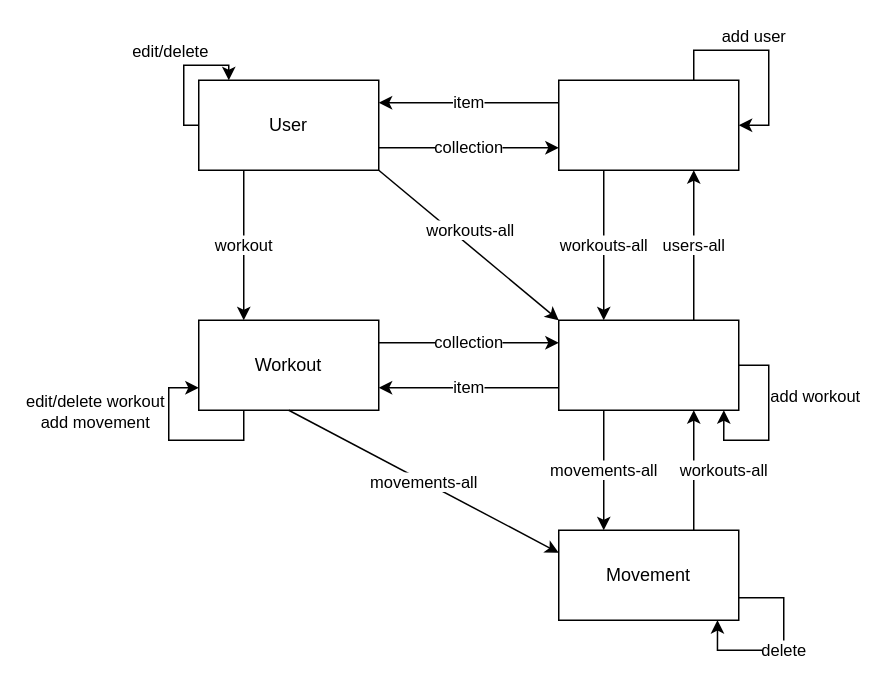
Image size: 885x689. Some labels were removed from this diagram. The box of each missing label's shape, as (x1, y1, x2, y2) in pixels:
Users: (557, 79, 739, 170)
Workouts: (557, 319, 739, 410)
